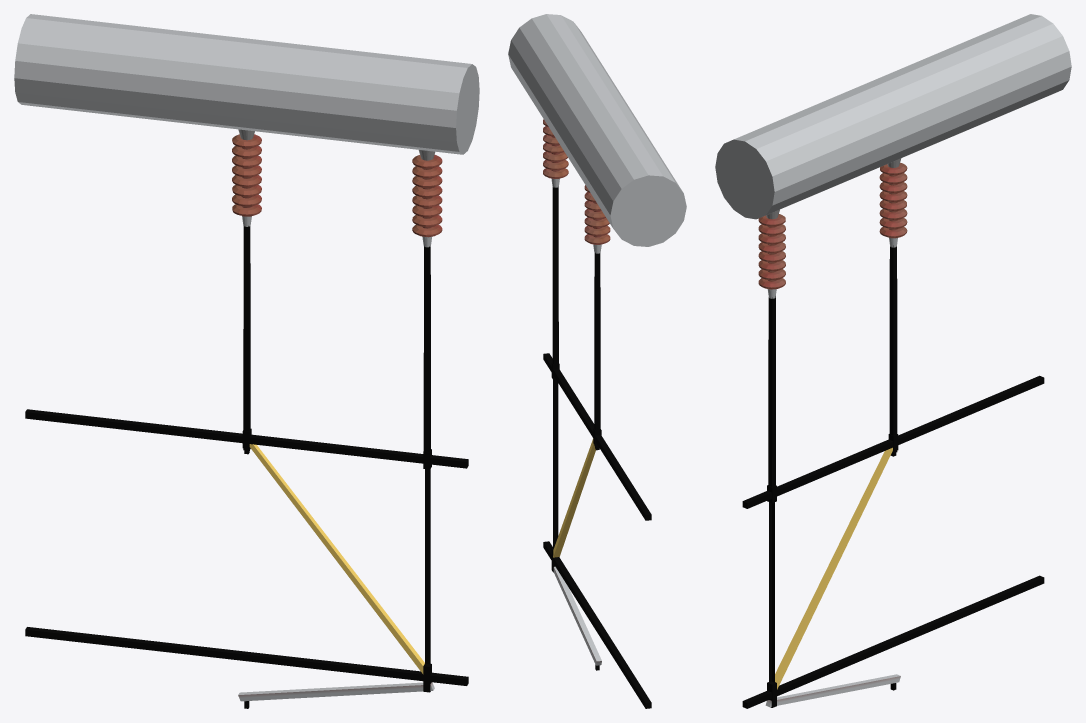
The model's file is 45d_moretop_1.obj.
The picture shows the model from 3 angles, left to right: view 1: azimuth 30°, elevation 25°; view 2: azimuth 150°, elevation 25°; view 3: azimuth 270°, elevation 25°; orthographic projection. The views are drawn at different scales.
Parts seen in each view (by area): view 1: moretop_1.002, moretop_1.004, moretop_1.003; view 2: moretop_1.002, moretop_1.004, moretop_1.003; view 3: moretop_1.002, moretop_1.004, moretop_1.003.
Part boxes in pixels (x1,y1,x2,y2): moretop_1.002: [14, 14, 479, 154]; moretop_1.004: [25, 409, 468, 708]; moretop_1.003: [232, 129, 442, 451]; moretop_1.002: [508, 14, 686, 246]; moretop_1.004: [543, 353, 651, 708]; moretop_1.003: [543, 119, 610, 447]; moretop_1.002: [715, 14, 1071, 219]; moretop_1.004: [742, 375, 1044, 708]; moretop_1.003: [758, 158, 907, 486].
Bounding box in the file's own units: 1.7 × 3.21 × 1.7.
2 materials, 2 textured.
